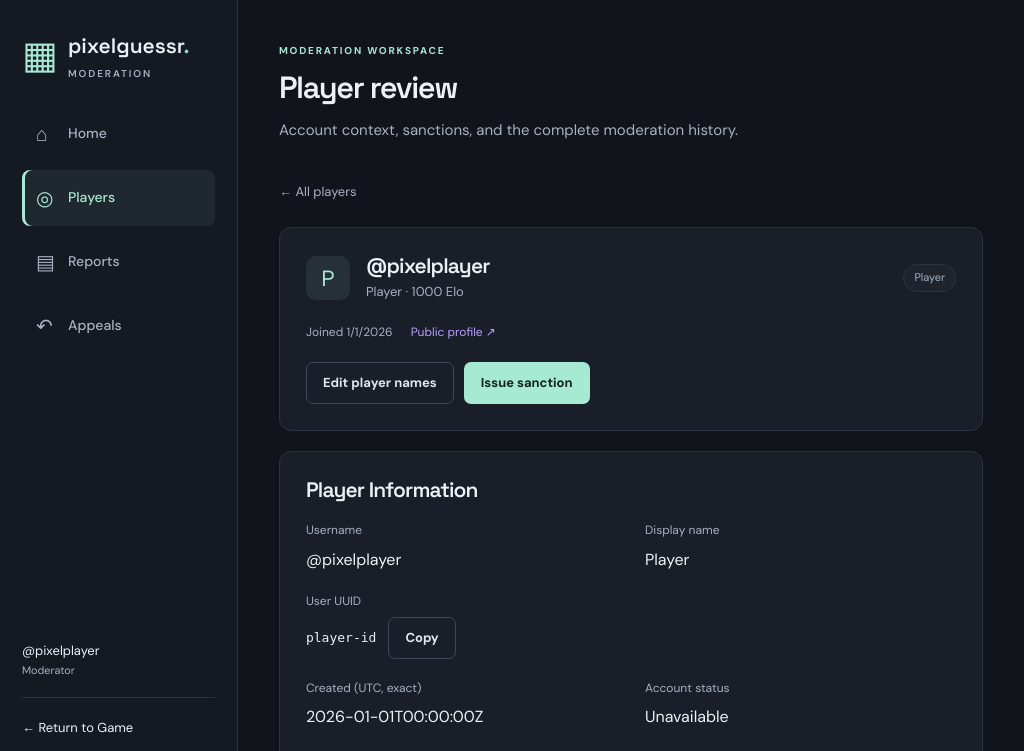
edits only changed names and refreshes stable player details: {"username":"renamed","display_name":"Fresh name"}
The width and height of the screenshot is (1024, 751).
Step 1. Click the button "Edit player names" → (380,383), box x1=306 y1=362 x2=454 y2=404
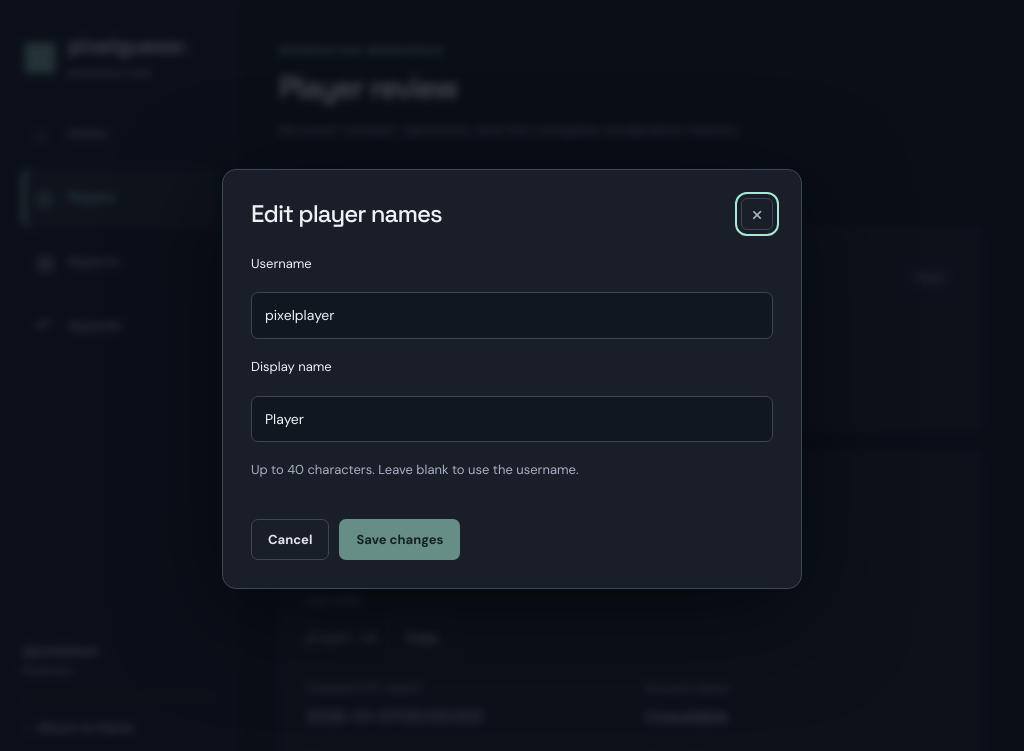
Check: the field labelled "Username" holds "pixelplayer", box x1=251 y1=292 x2=773 y2=339
Check: the field labelled "Display name" holds "Player", box x1=251 y1=396 x2=773 y2=442
Check: the button "Save changes" is disabled, box x1=339 y1=519 x2=460 y2=560
Step 2. Submit the form named "Save changes", box x1=251 y1=254 x2=773 y2=560
Step 3. Replace the text in the field labelled "Username" with "renamed" → (512,316), box x1=251 y1=292 x2=773 y2=339
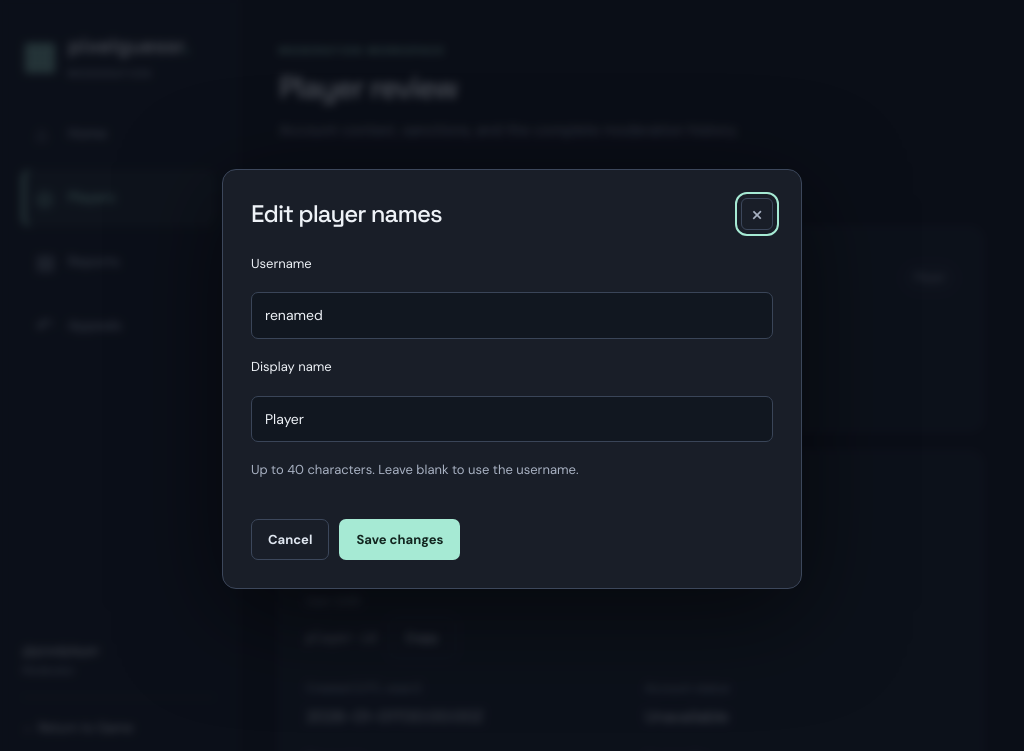
Step 4. Replace the text in the field labelled "Display name" with "Fresh name" → (512,419), box x1=251 y1=396 x2=773 y2=442
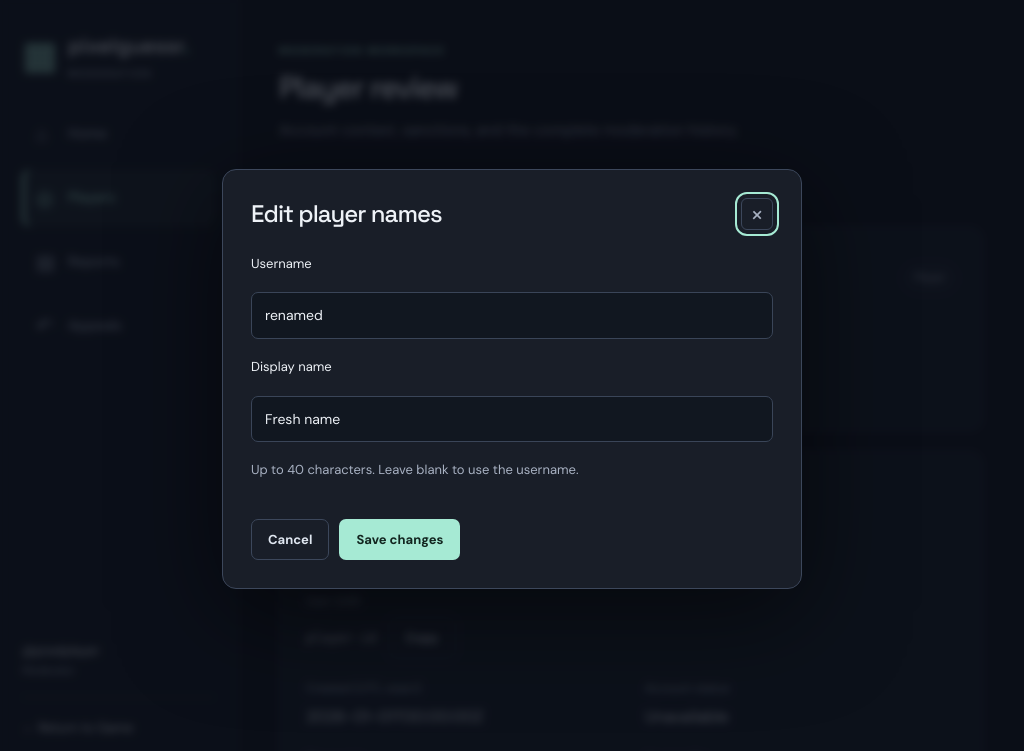
Step 5. Click the button "Save changes" → (400,540), box x1=339 y1=519 x2=460 y2=560
(page scrolled)
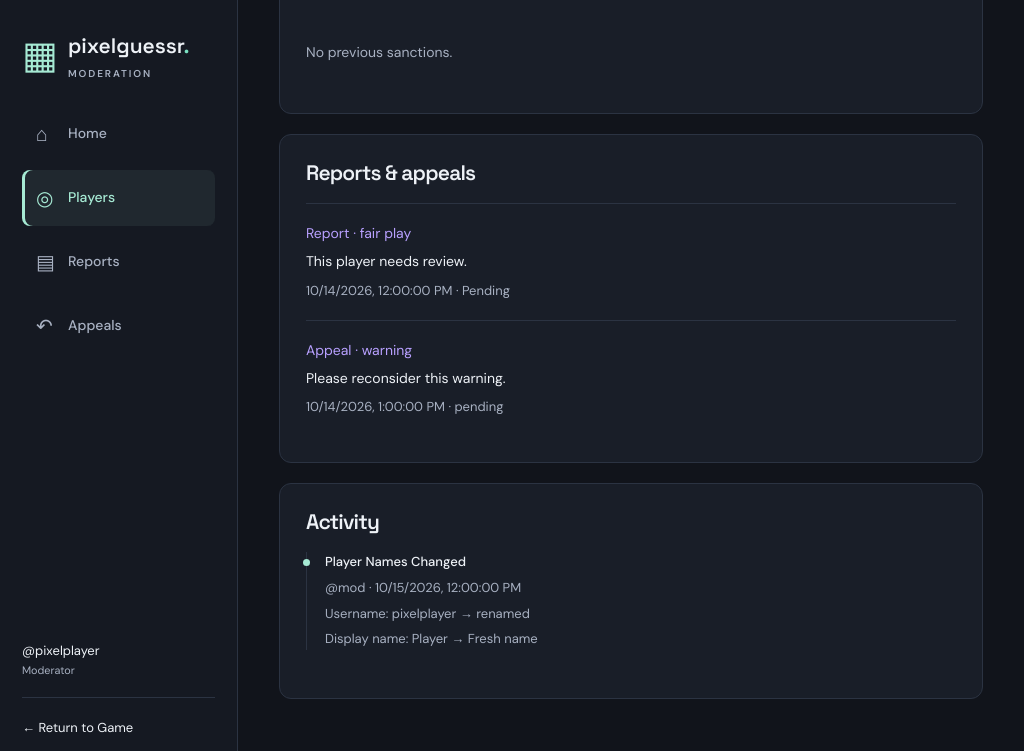
Check: the dialog is gone
Check: the text "player names changed" is shown, box x1=325 y1=553 x2=466 y2=570
